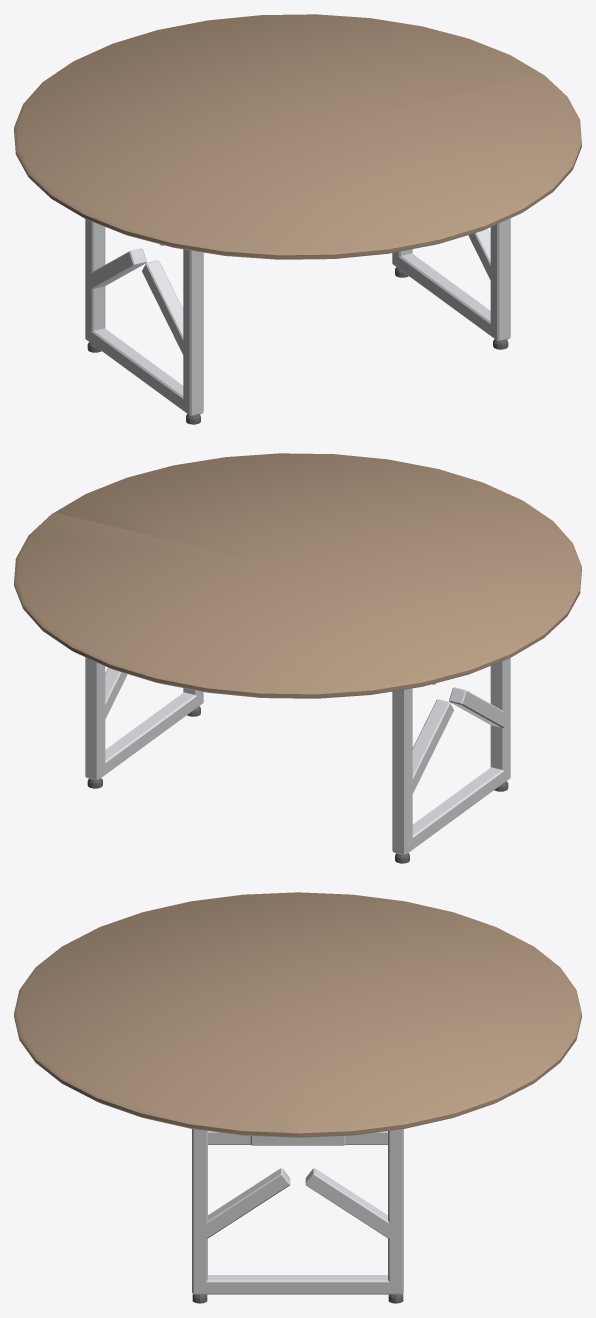
The model's file is hotel-and-resort-operations-banquet-round-table-10-958b76ee.glb.
The picture shows the model from 3 angles, top to bottom: view 1: azimuth 30°, elevation 25°; view 2: azimuth 150°, elevation 25°; view 3: azimuth 270°, elevation 25°; orthographic projection.
Visible parts, largest first — view 1: banquet-round-table-10; view 2: banquet-round-table-10; view 3: banquet-round-table-10.
Boxes of the visible parts, box(x1,y1,x2,y2) form: banquet-round-table-10: box(14, 14, 581, 424); banquet-round-table-10: box(14, 453, 581, 863); banquet-round-table-10: box(14, 892, 581, 1303).
Bounding box in the file's own units: 1.8 × 0.75 × 1.8.
